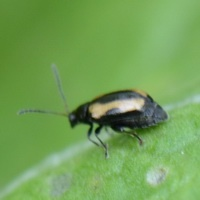insect: (18, 64, 167, 157)
